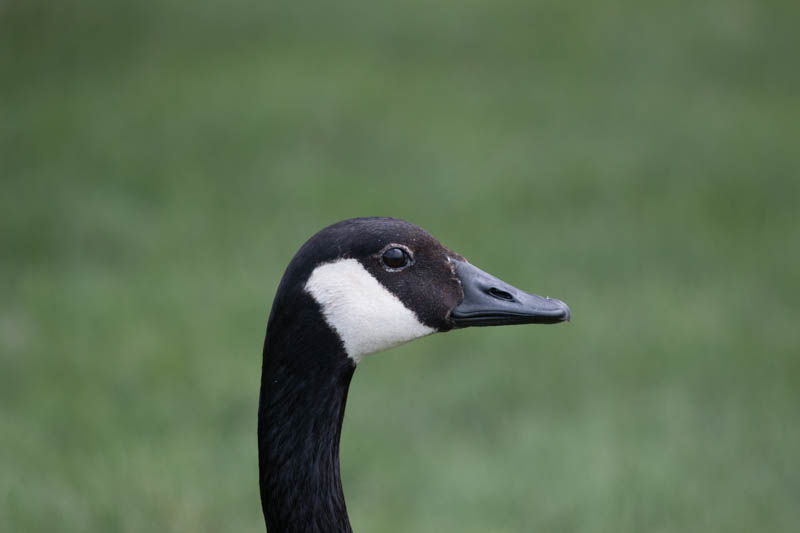goose-head: (260, 215, 572, 367)
